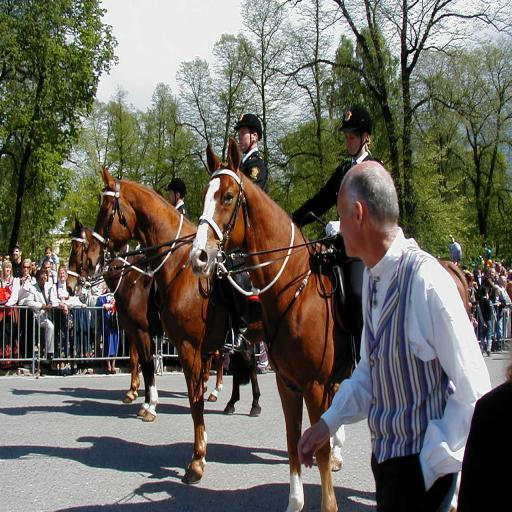Horse: (191, 136, 469, 512), (86, 164, 328, 484), (65, 216, 226, 404)
